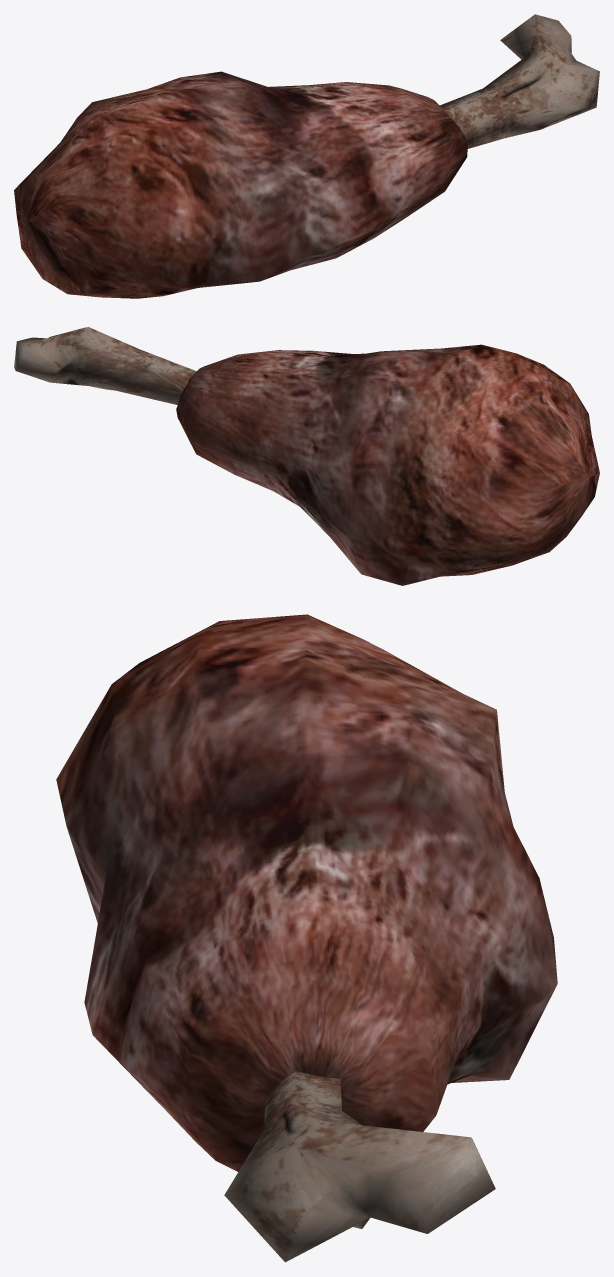
The model's file is fresh_meat.dae.
The picture shows the model from 3 angles, top to bottom: view 1: azimuth 30°, elevation 25°; view 2: azimuth 150°, elevation 25°; view 3: azimuth 270°, elevation 25°; orthographic projection. The views are drawn at different scales.
Parts seen in each view (by area): view 1: polySurface3, polySurface2; view 2: polySurface3, polySurface2; view 3: polySurface3, polySurface2.
Boxes of the visible parts, x1,y1,x2,y2 form: polySurface3: (14, 71, 467, 298); polySurface2: (440, 14, 599, 148); polySurface3: (176, 344, 599, 585); polySurface2: (14, 327, 196, 404); polySurface3: (56, 614, 557, 1171); polySurface2: (224, 1070, 495, 1262).
Bounding box in the file's own units: 0.4003 × 0.1438 × 0.1595.
